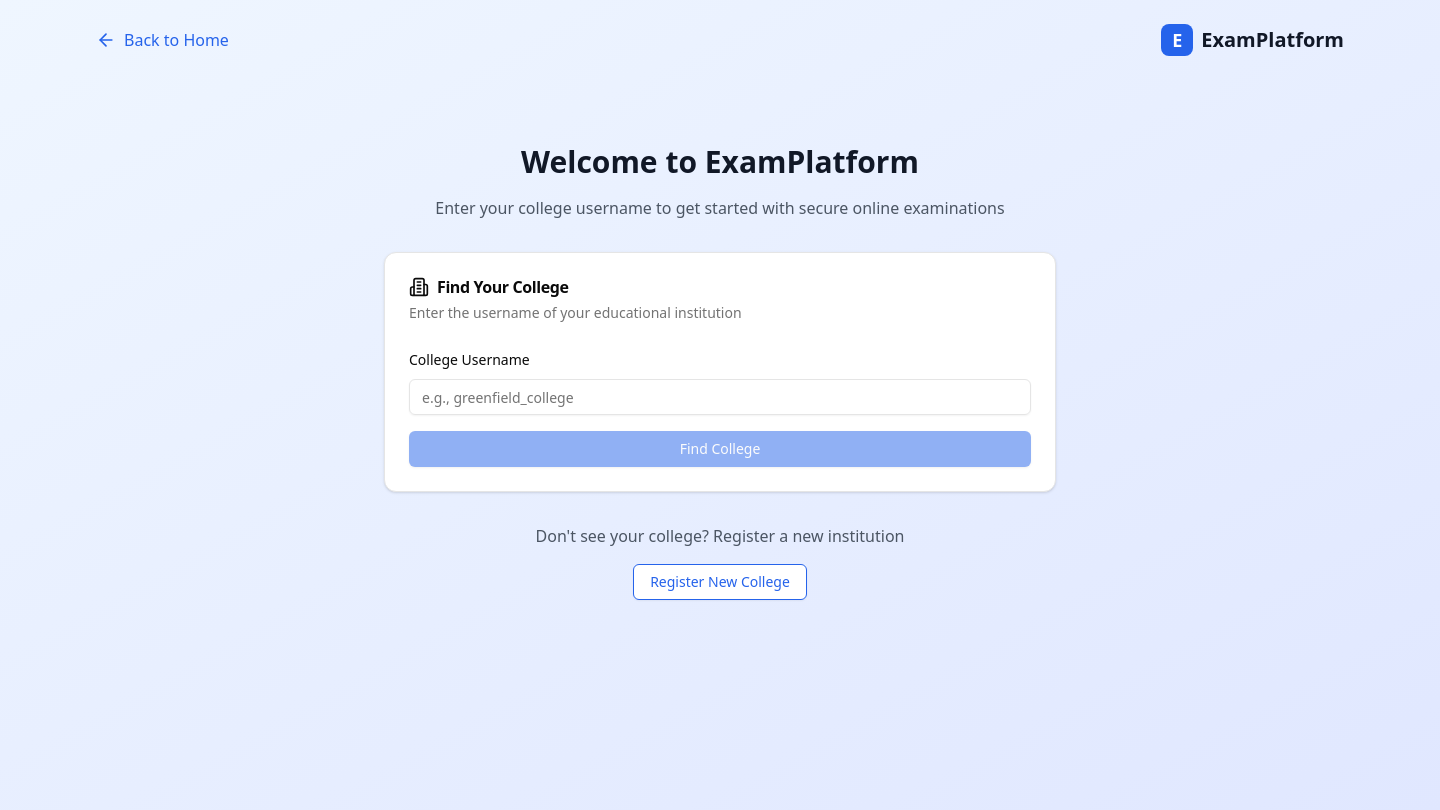
Scenario: CollegeSelectionPage › College Search › should show error message when college is not found
This screenshot has width=1440, height=810.
Type "nonexistent" into the field labelled "College Username" at coordinates (720, 397), box top-left (409, 379), bottom-right (1031, 415)
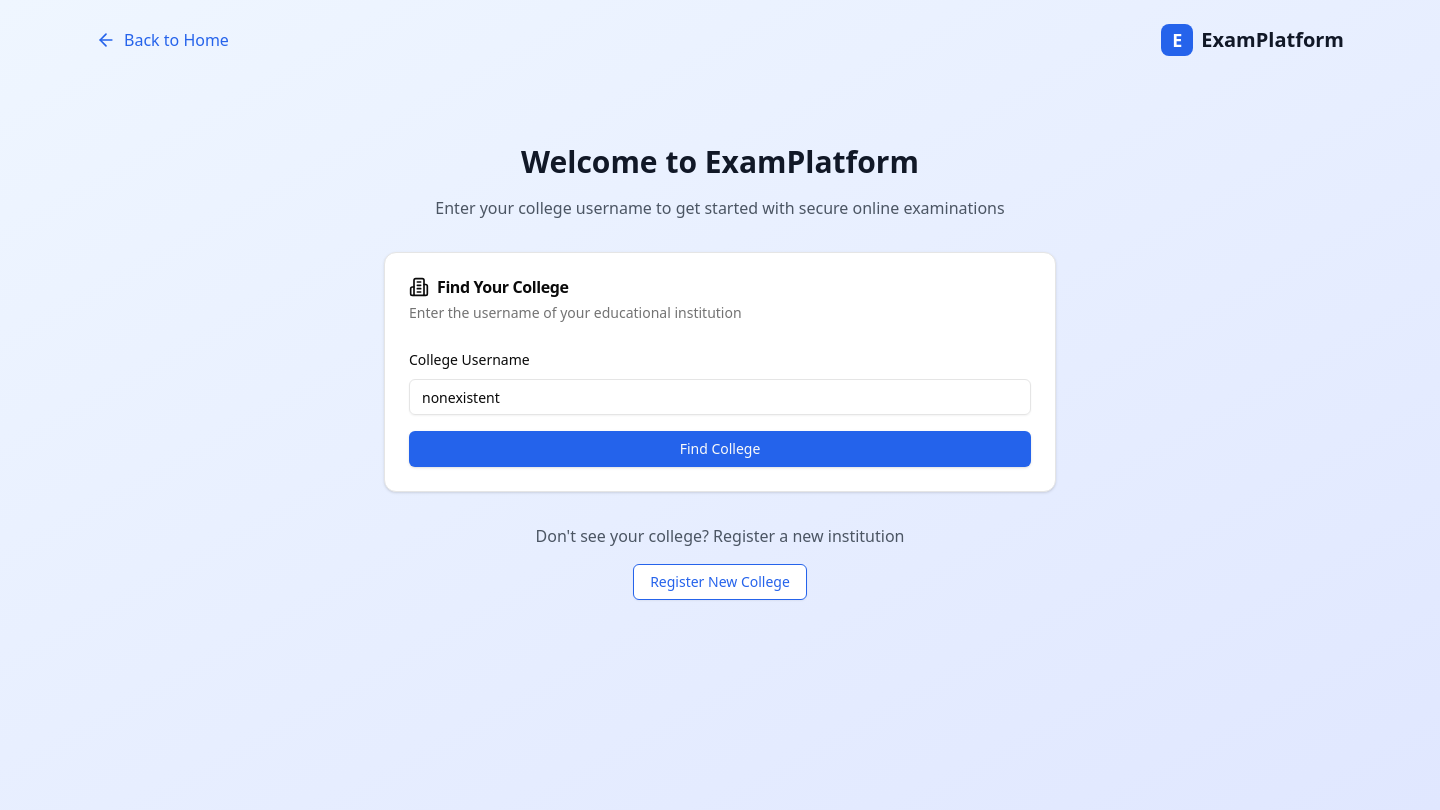
Click the button "Find College" at coordinates (720, 449), box top-left (409, 431), bottom-right (1031, 467)
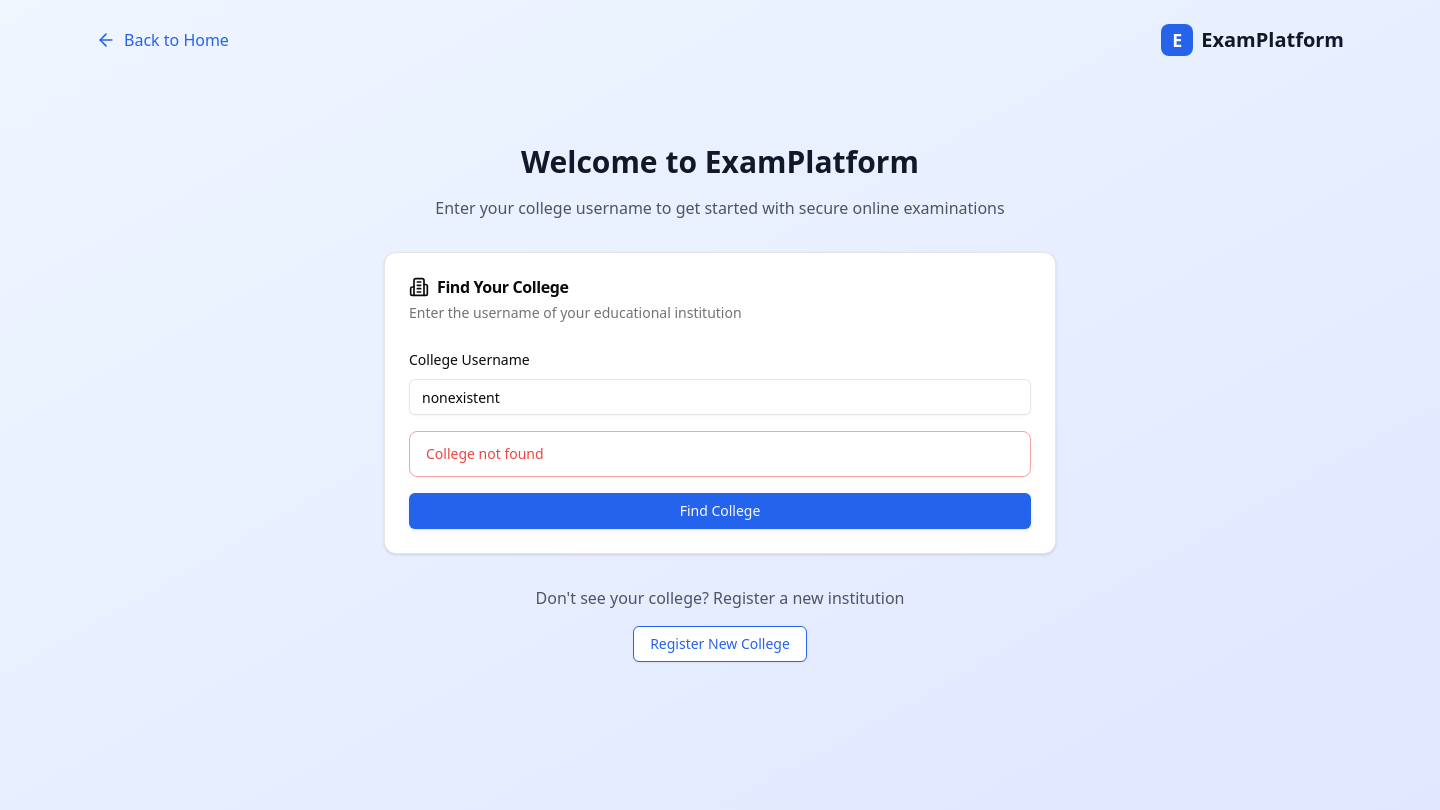
Result: the text "College not found" is shown at top-left (426, 444), bottom-right (544, 463)
